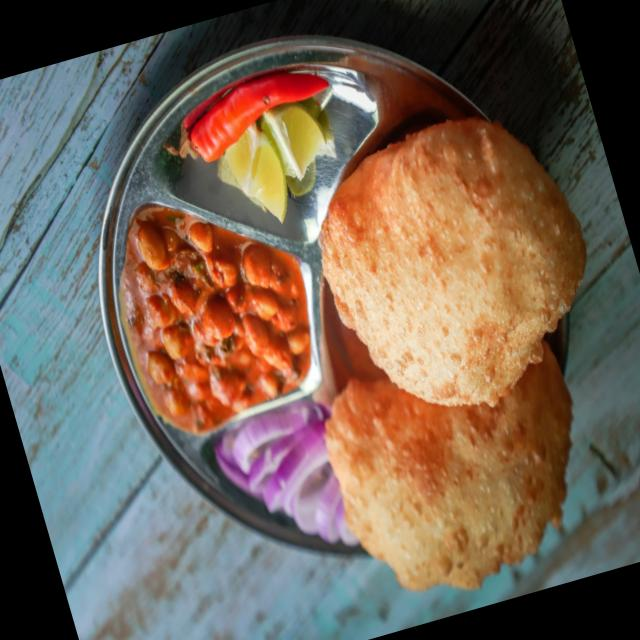Bhatura: (248, 97, 640, 620)
Chole: (108, 195, 322, 442)
